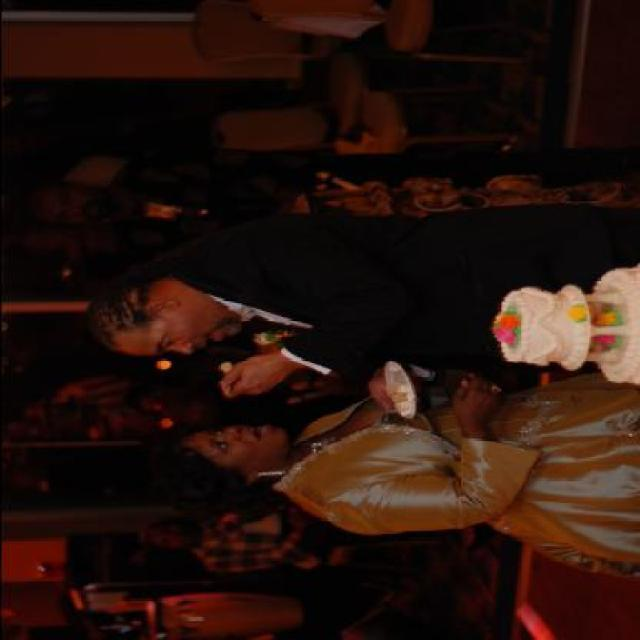Cake: (496, 266, 638, 388)
